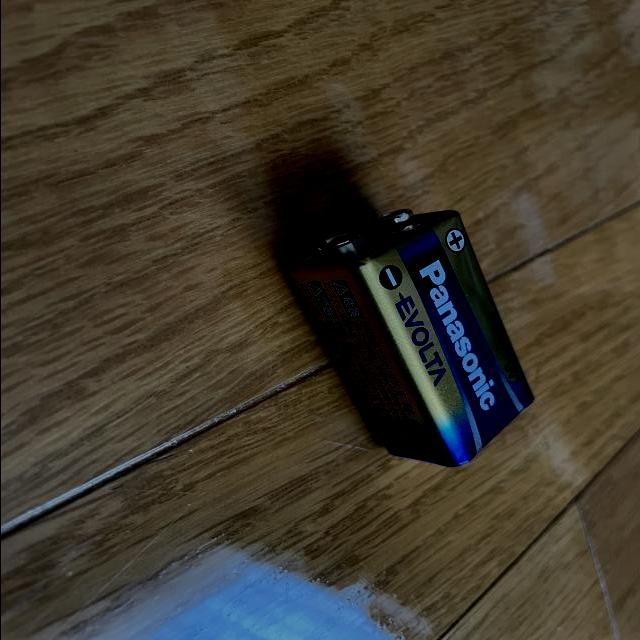9V: (284, 208, 534, 468)
